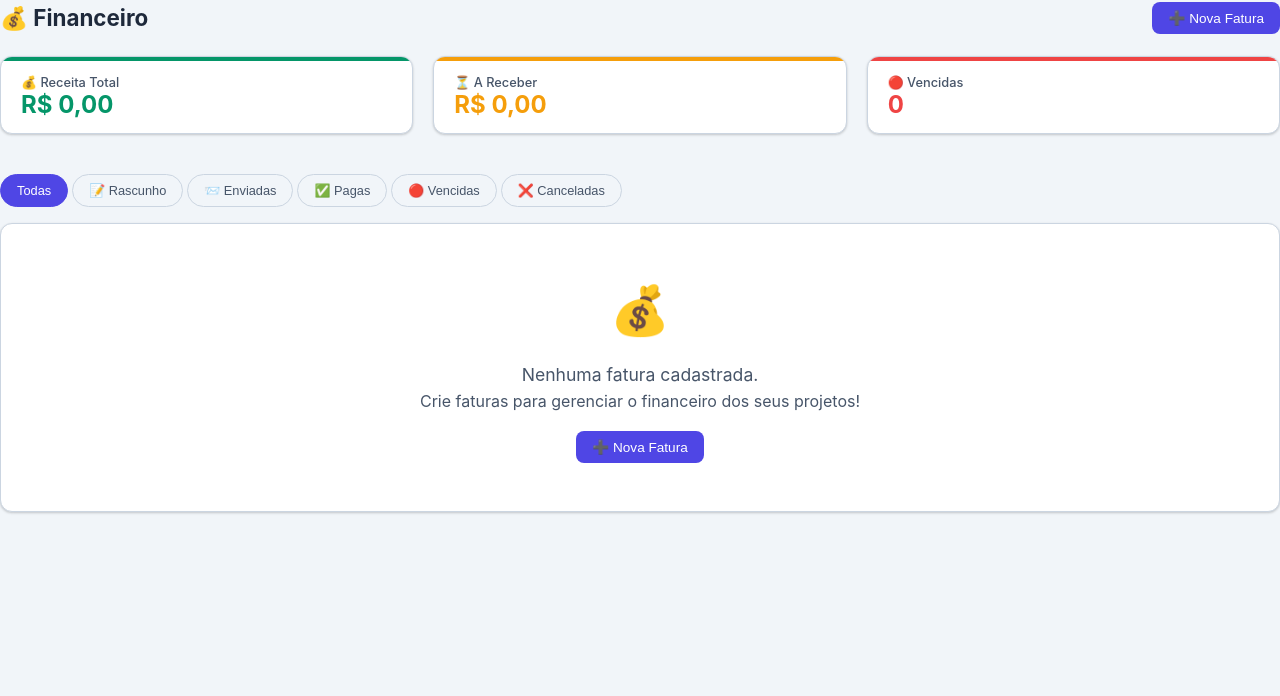
Test case: Finance › shows paid_date field when status is paid
Click the button "➕ Nova Fatura" in the row of "💰 Financeiro" at (1216, 18), box x1=1152 y1=2 x2=1279 y2=34
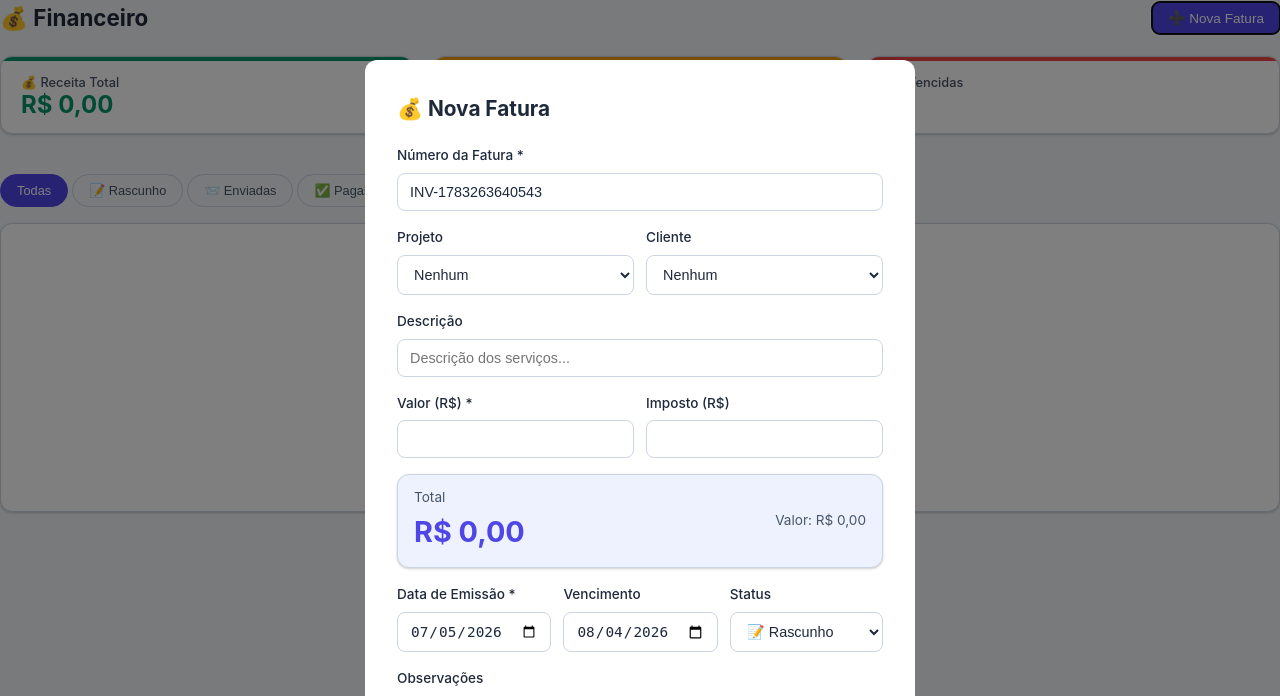
# Select "Paga" from the status select (third select: projeto, cliente, status)
Select "✅ Paga" in the dropdown below "Status" at (806, 632), box x1=730 y1=612 x2=883 y2=652
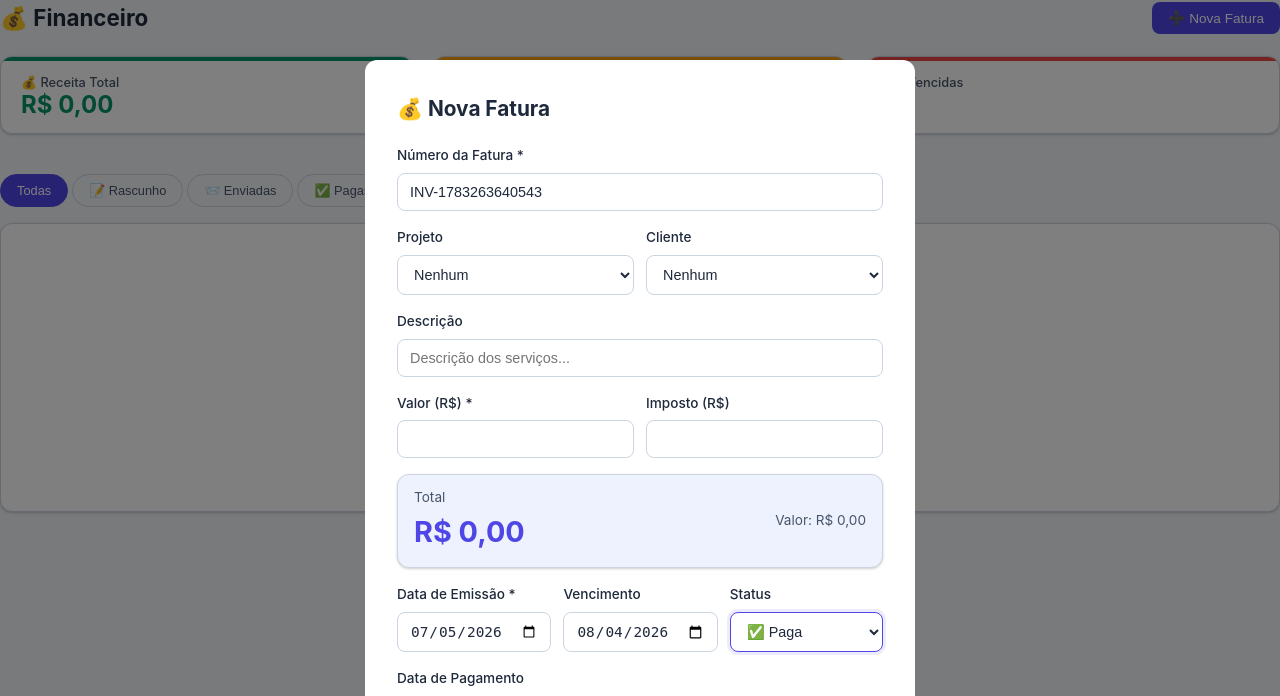
Result: the text "Data de Pagamento" is shown at x1=397 y1=670 x2=524 y2=686
